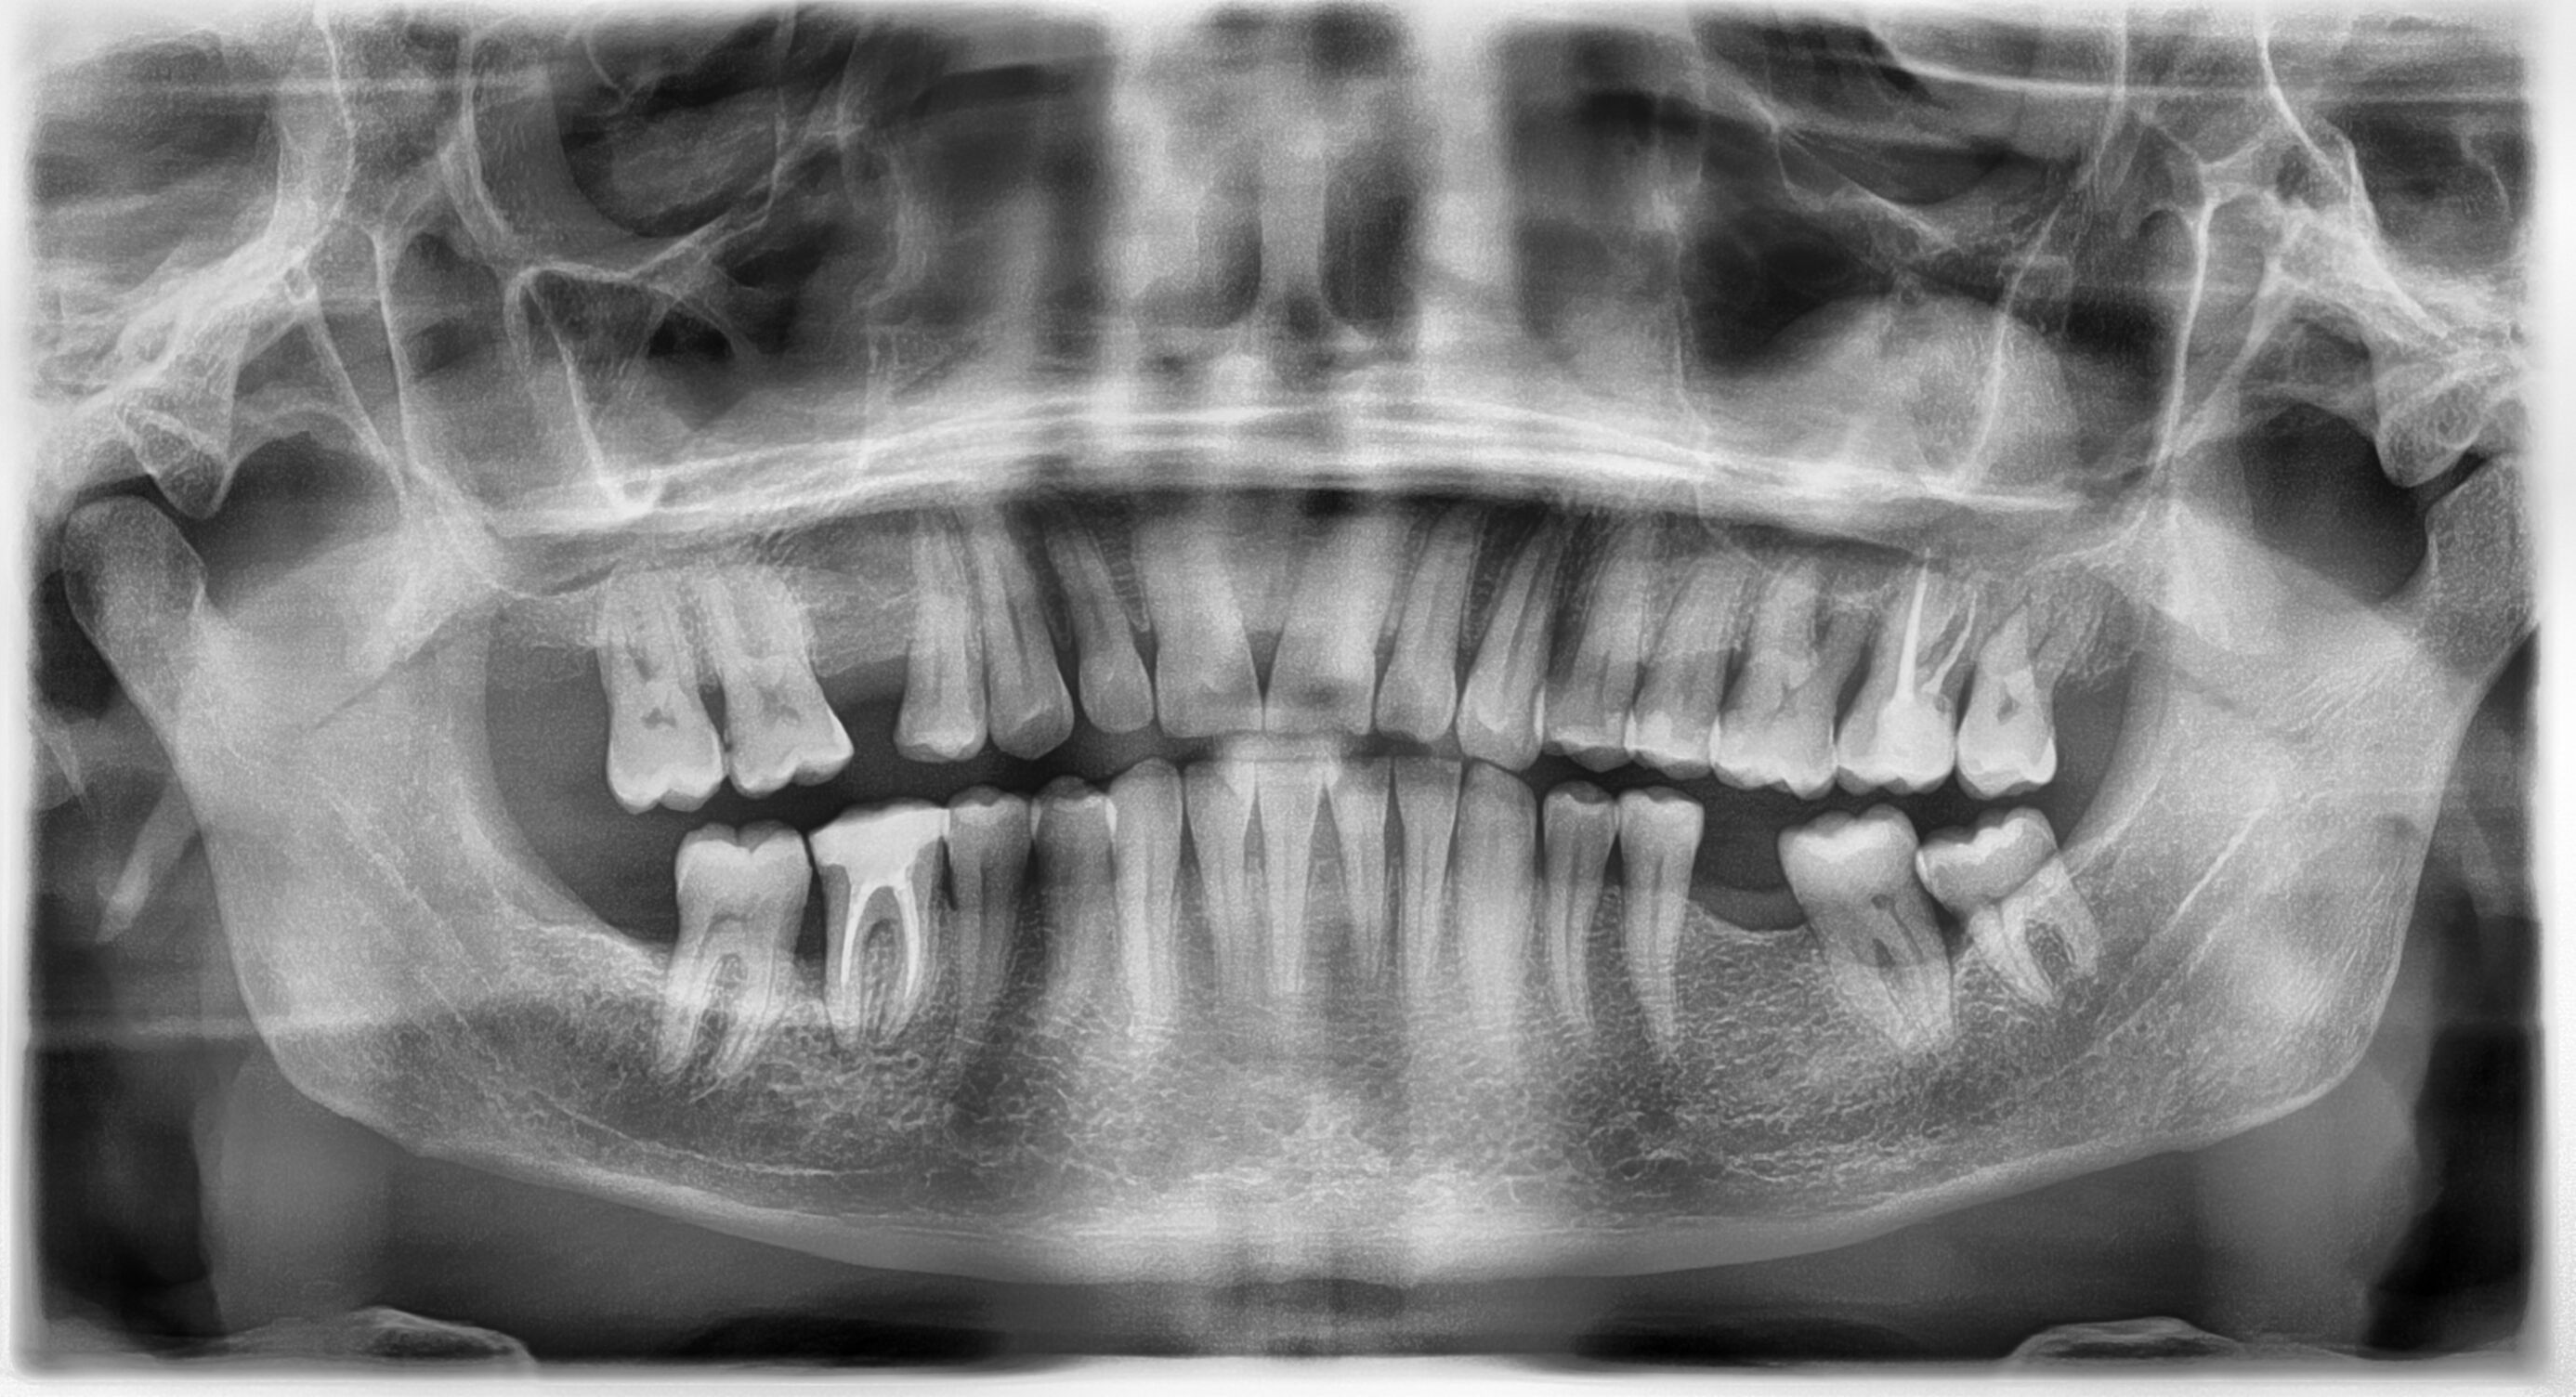cordal: (1931, 583, 2167, 817), (1900, 802, 2136, 1034)
diastema: (788, 575, 929, 776)
tratamiento_conducto: (1825, 520, 1996, 807), (796, 783, 958, 1063)
zona_dentula: (1666, 795, 1854, 1005)
